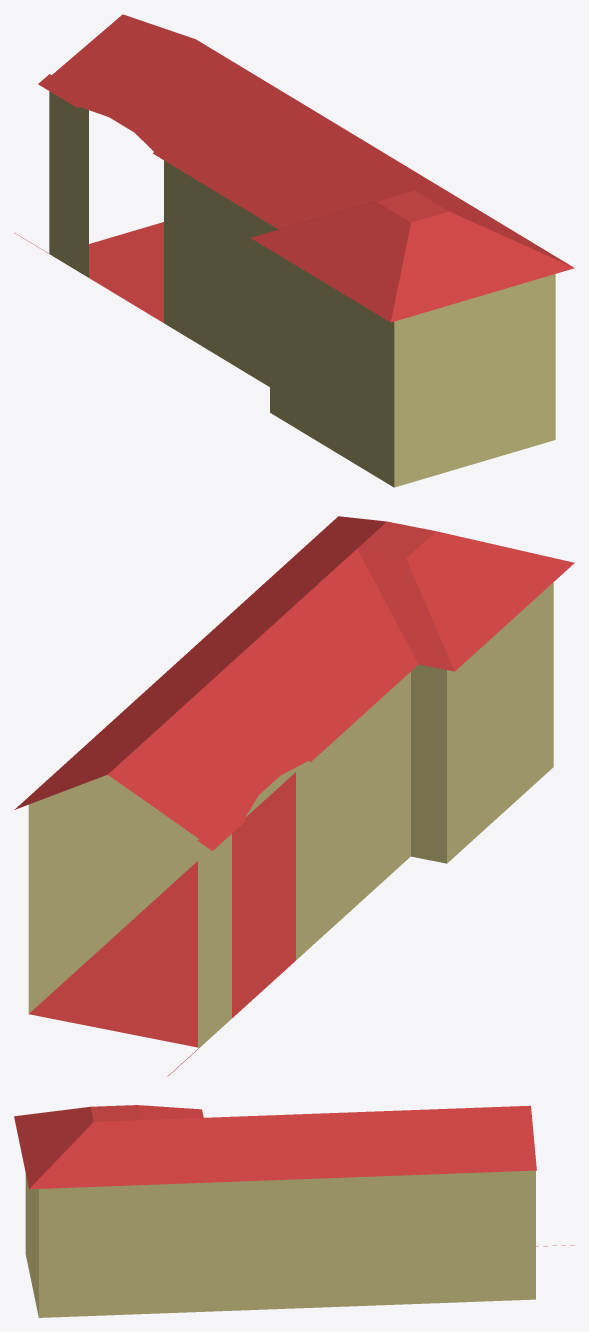
The picture shows the model from 3 angles, top to bottom: view 1: azimuth 30°, elevation 25°; view 2: azimuth 150°, elevation 25°; view 3: azimuth 270°, elevation 25°; orthographic projection. The views are drawn at different scales.
Bounding box in the file's own units: 13.33 × 39.18 × 13.06.
